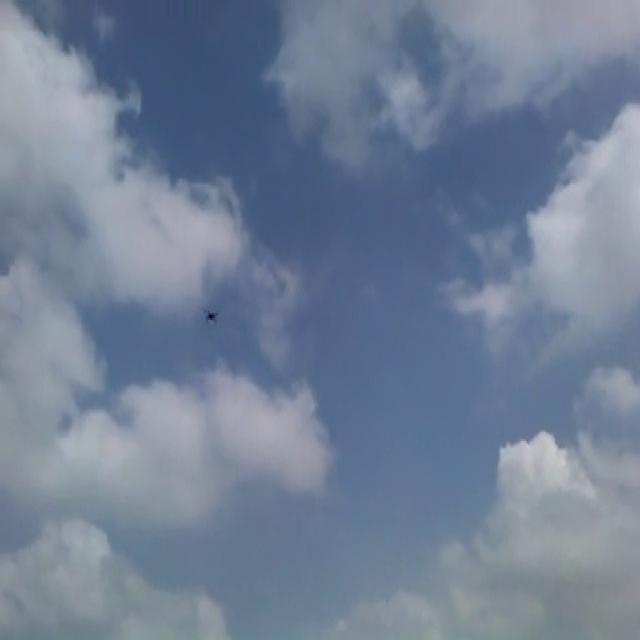drone: (201, 304, 220, 327)
